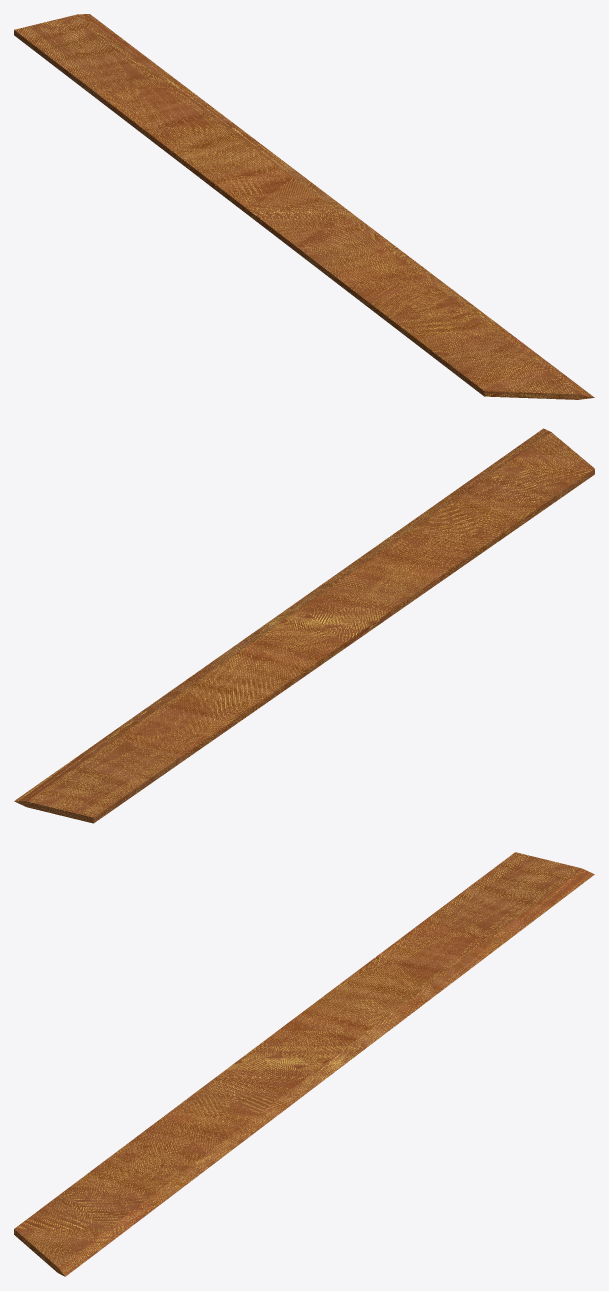
Rendered from original-5.obj.
The picture shows the model from 3 angles, top to bottom: view 1: azimuth 30°, elevation 25°; view 2: azimuth 150°, elevation 25°; view 3: azimuth 330°, elevation 25°; orthographic projection. The views are drawn at different scales.
Parts seen in each view (by area): view 1: mesh8/mesh8-geometry#mesh8-geometry; view 2: mesh8/mesh8-geometry#mesh8-geometry; view 3: mesh8/mesh8-geometry#mesh8-geometry.
Part boxes in pixels (bbox=[...]): mesh8/mesh8-geometry#mesh8-geometry: bbox=[14, 14, 594, 399]; mesh8/mesh8-geometry#mesh8-geometry: bbox=[14, 428, 594, 823]; mesh8/mesh8-geometry#mesh8-geometry: bbox=[14, 852, 594, 1276].
Bounding box in the file's own units: 0.1226 × 0.0286 × 1.34.
